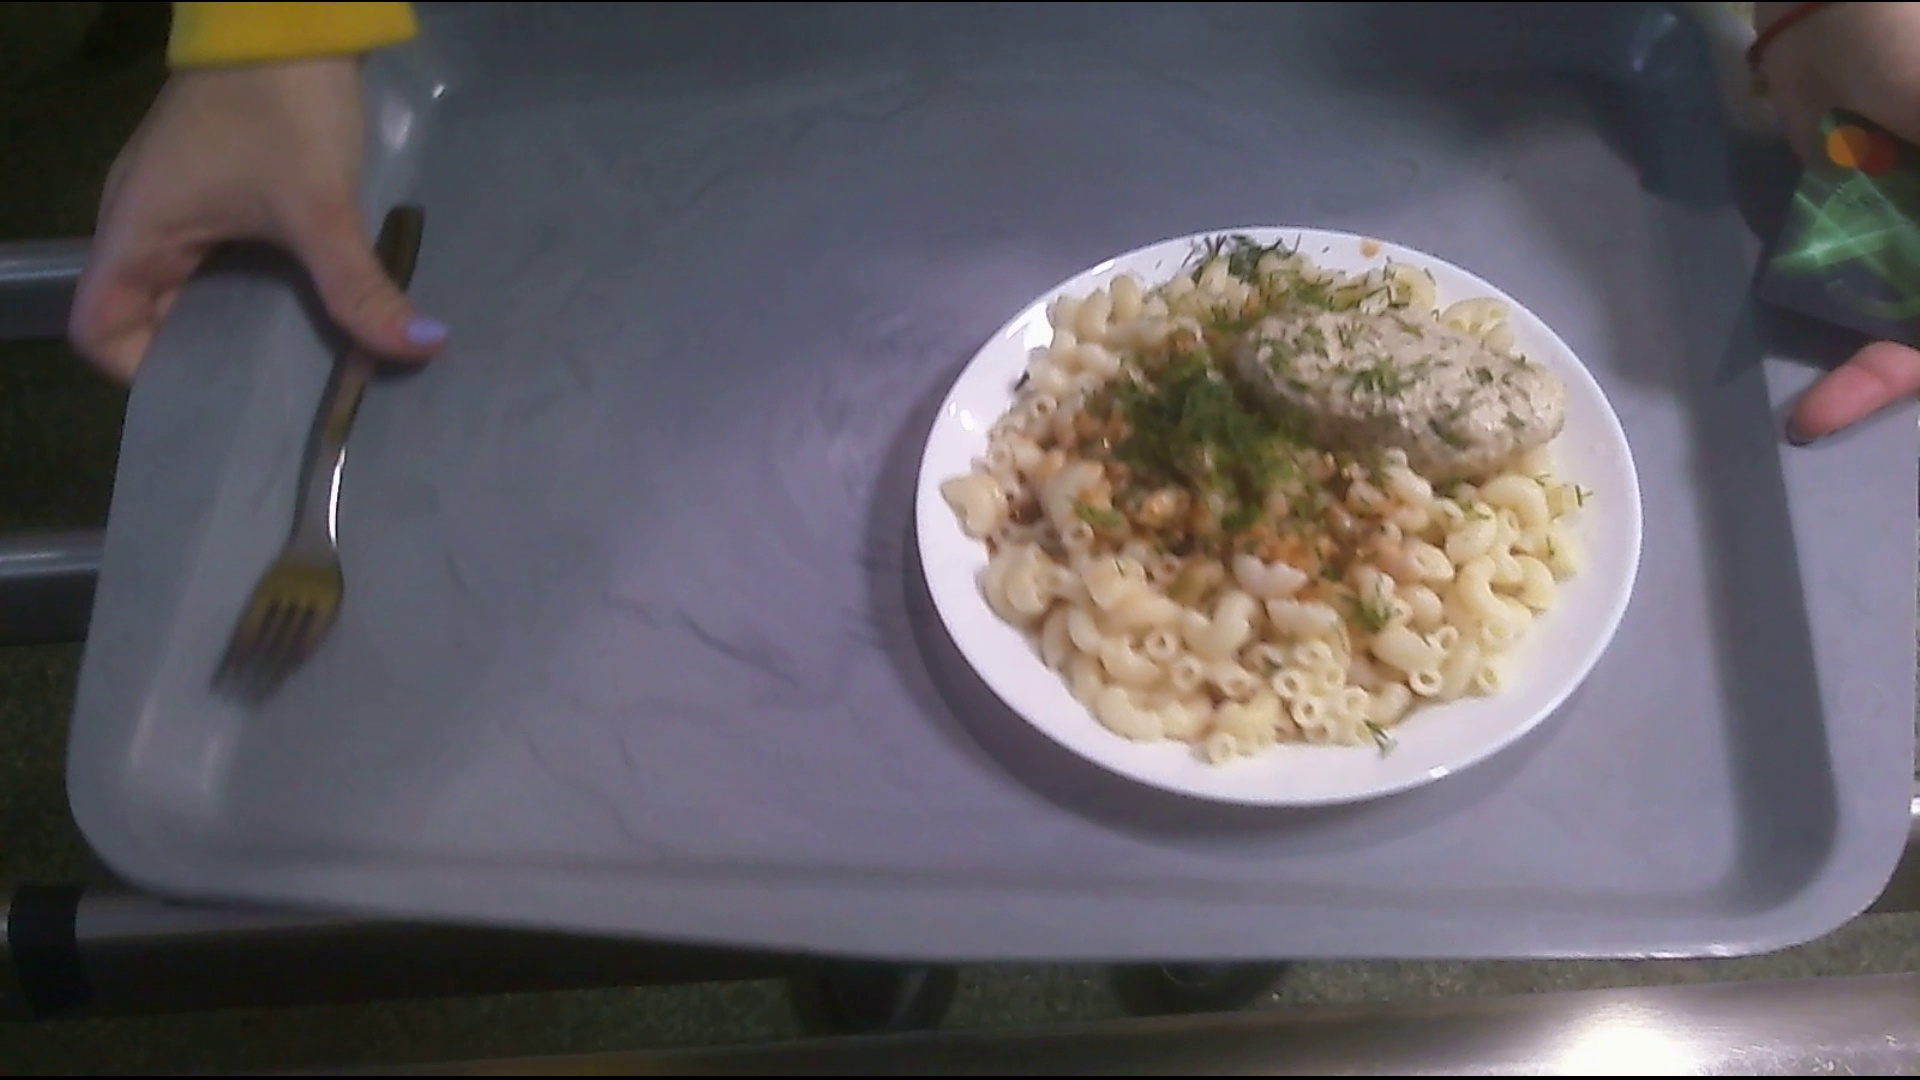cutlery: (233, 207, 452, 699)
plate: (914, 220, 1644, 814)
